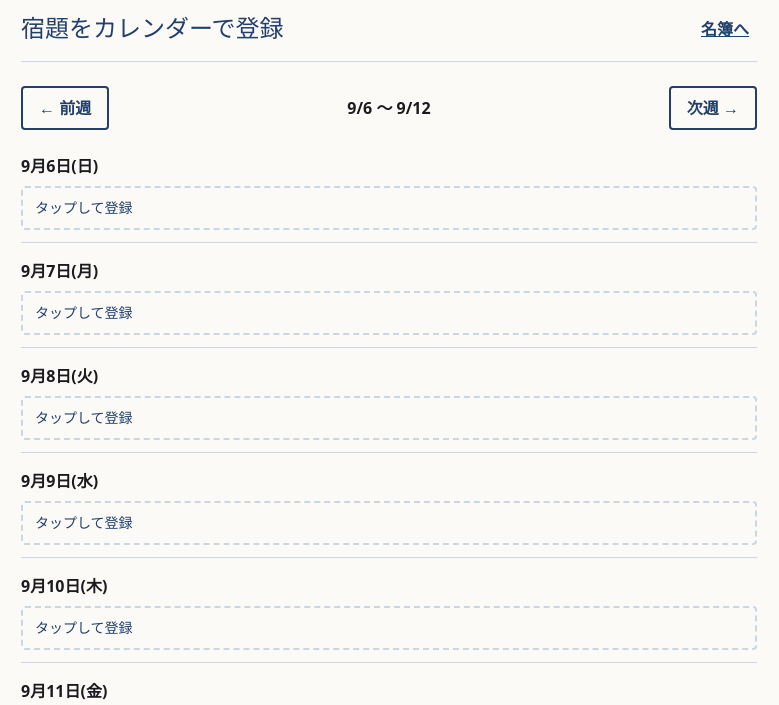
it: カレンダー画面 › 空欄のまま確定しようとするとエラーを出し登録しない
Step 1. Click the button "タップして登録" below "9月6日(日)" → {"x": 84, "y": 208}, box [21,186,757,230]
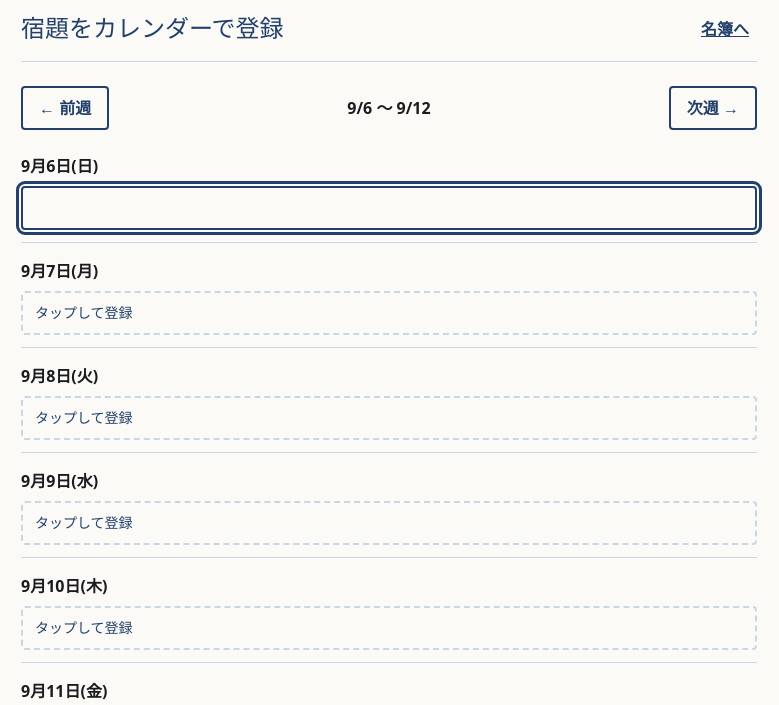
Step 2. Leave the field, box [21,186,757,230]
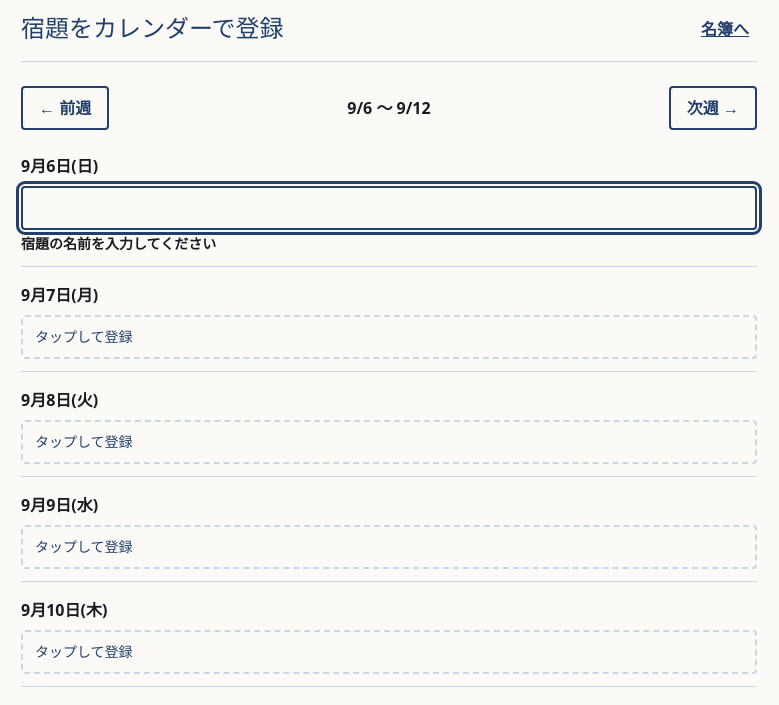
Result: the text "宿題の名前を入力してください" is shown at [21,234,216,253]
